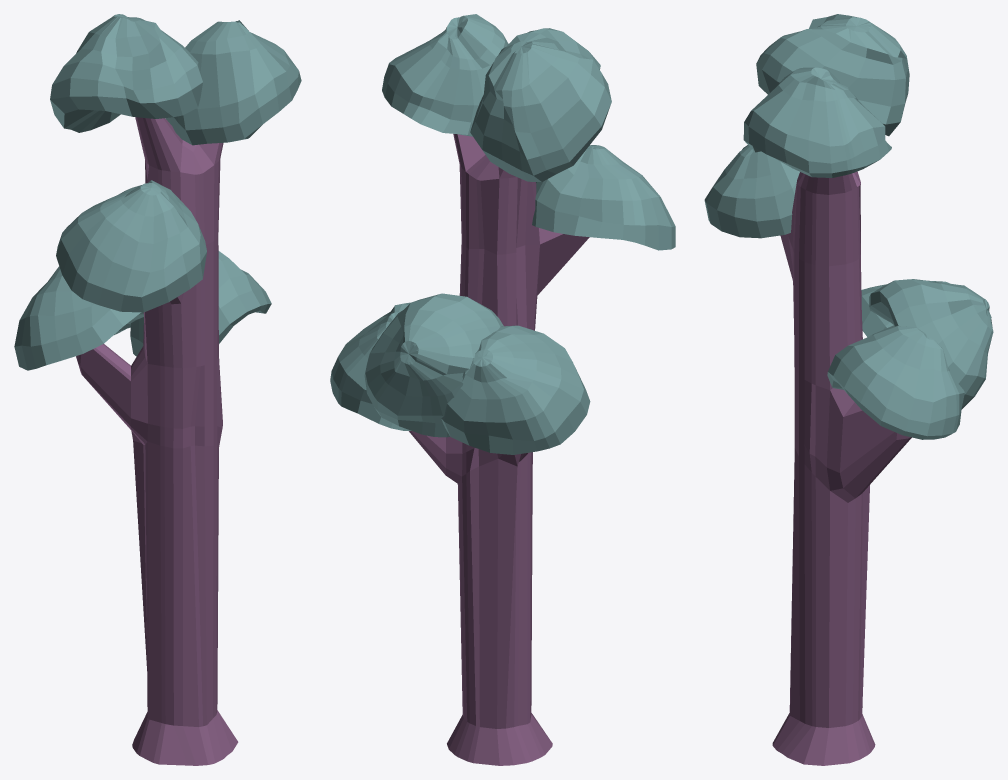
Rendered from strom 3 UV TEXTURE v02.fbx.
The picture shows the model from 3 angles, left to right: view 1: azimuth 30°, elevation 25°; view 2: azimuth 150°, elevation 25°; view 3: azimuth 270°, elevation 25°; orthographic projection. The views are drawn at different scales.
Visible parts, largest first — view 1: polySurface12; view 2: polySurface12; view 3: polySurface12.
Part boxes in pixels (box(x1,y1,x2,y2)): polySurface12: box(14, 14, 301, 765); polySurface12: box(330, 14, 675, 765); polySurface12: box(704, 14, 993, 765).
Size of the model in its own units: 0.713 by 1.88 by 0.6979.
